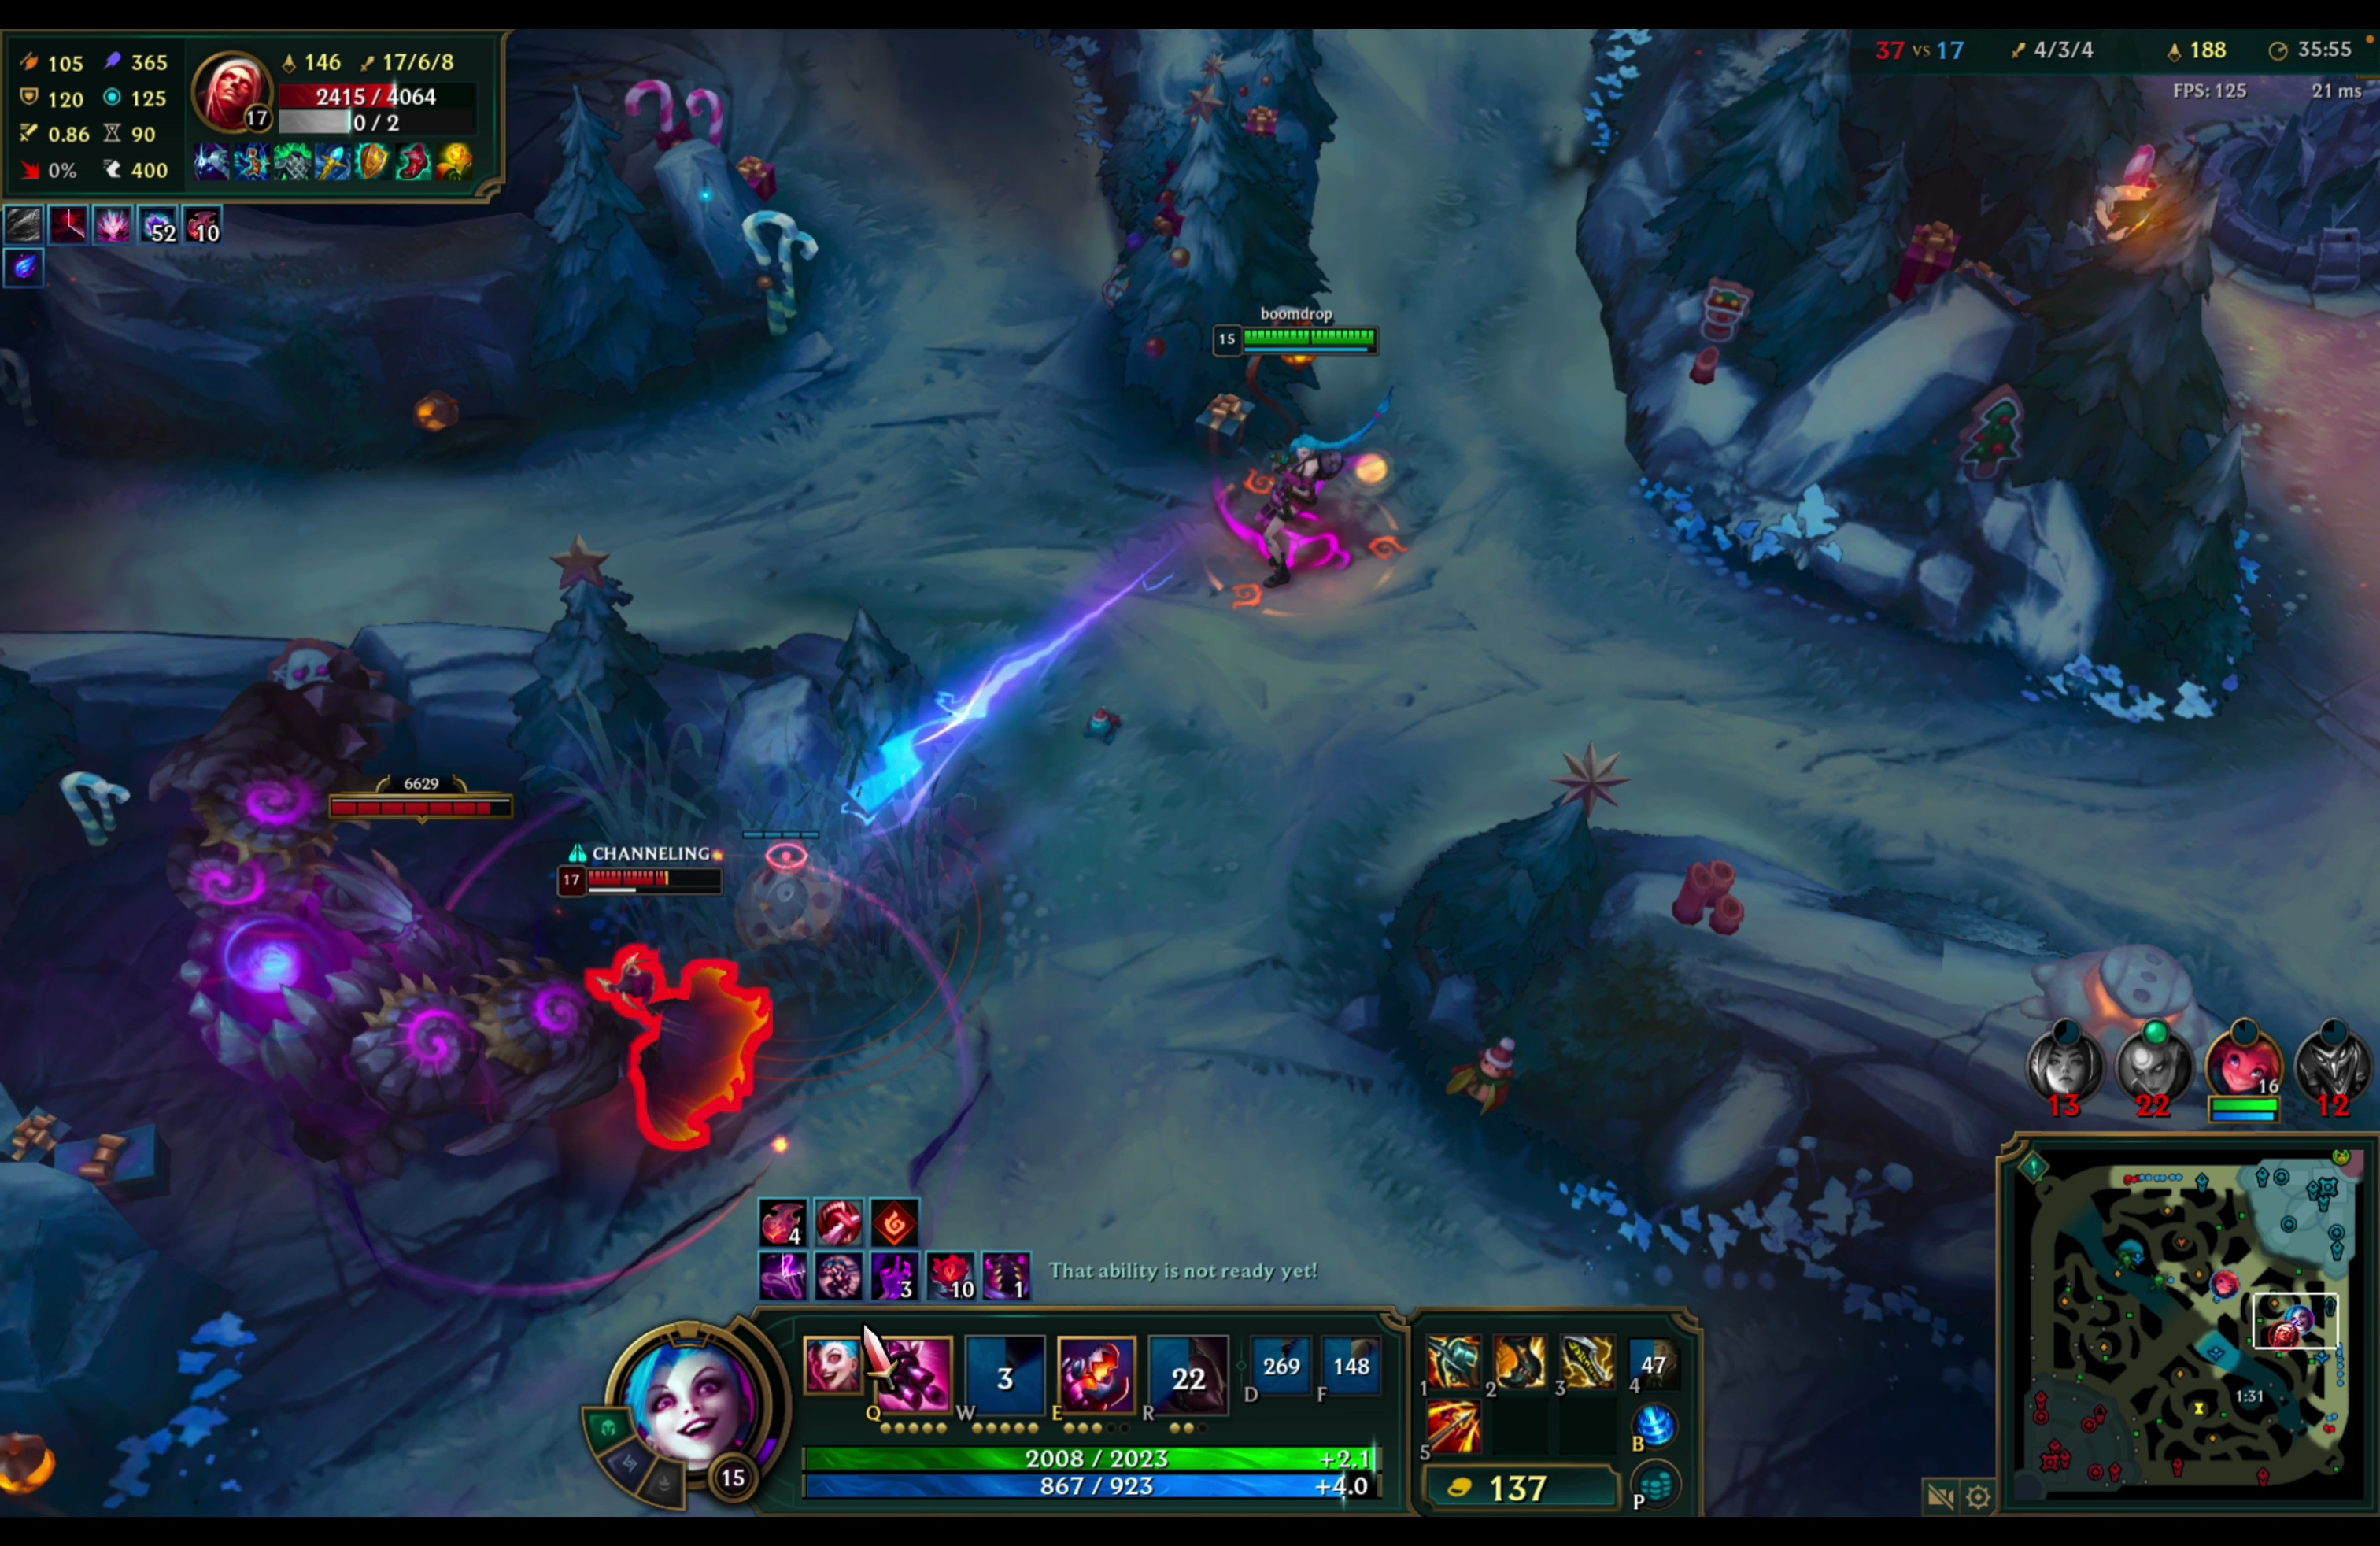JINX_W_PROJECTILE: (826, 298, 1435, 838)
